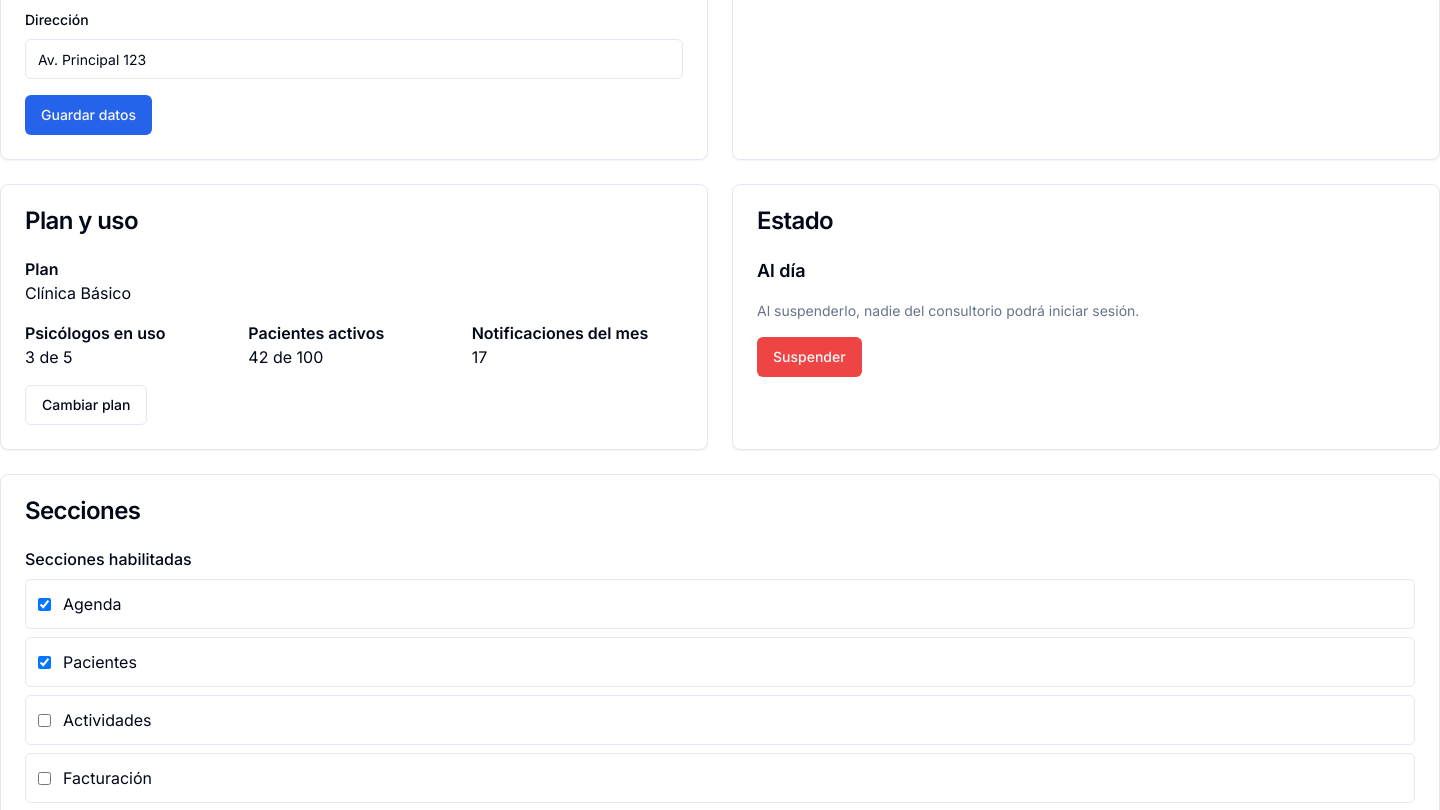
TenantDetail › shows the PLAN_BELOW_USAGE message and leaves the plan unchanged
(page scrolled)
Expected: the checkbox labelled "Agenda" is shown, [38,598,51,610]
Click the button "Cambiar plan" at (86, 405), box [25,385,148,425]
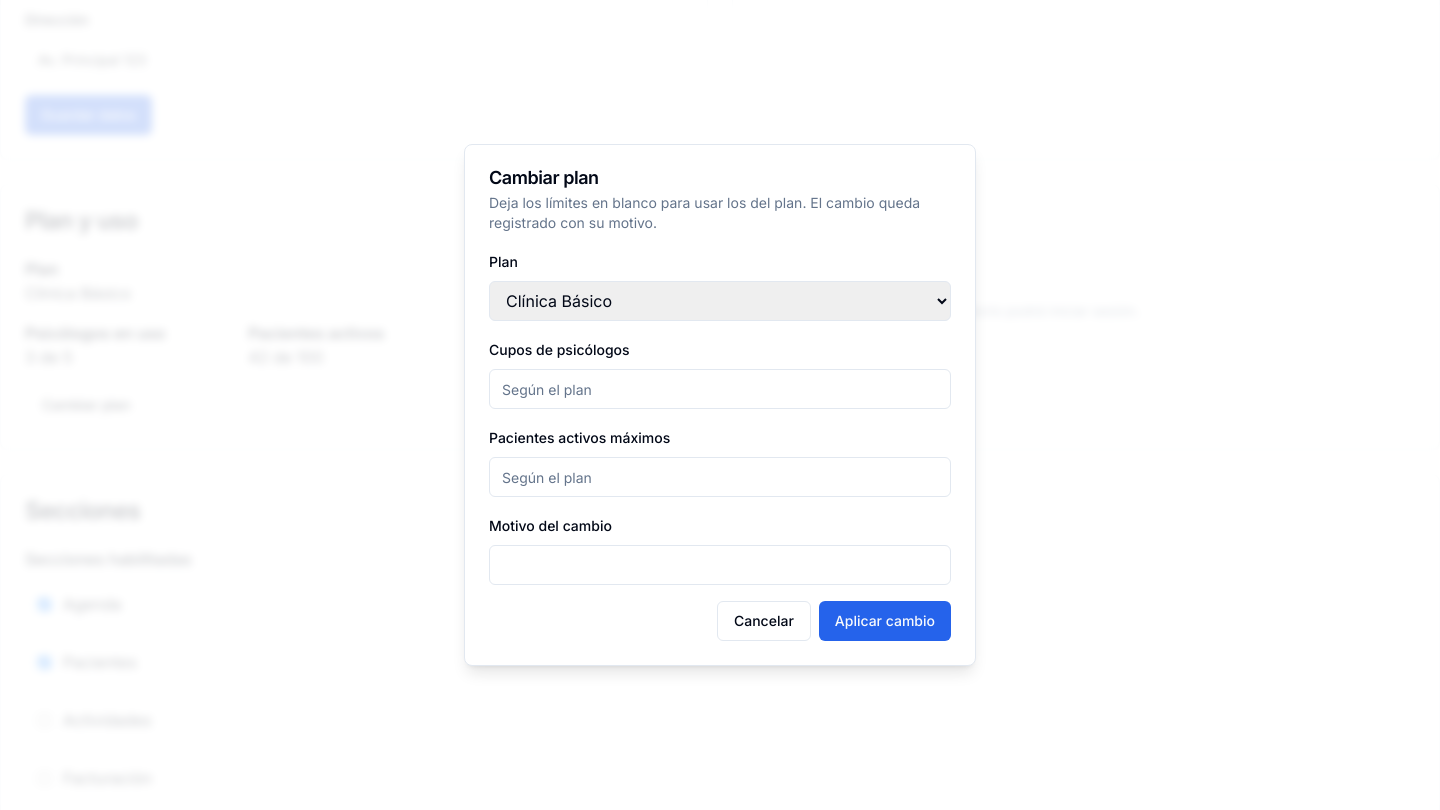
Select "Clínica Pro" in the dropdown labelled "Plan" at (720, 301), box [489,281,951,321]
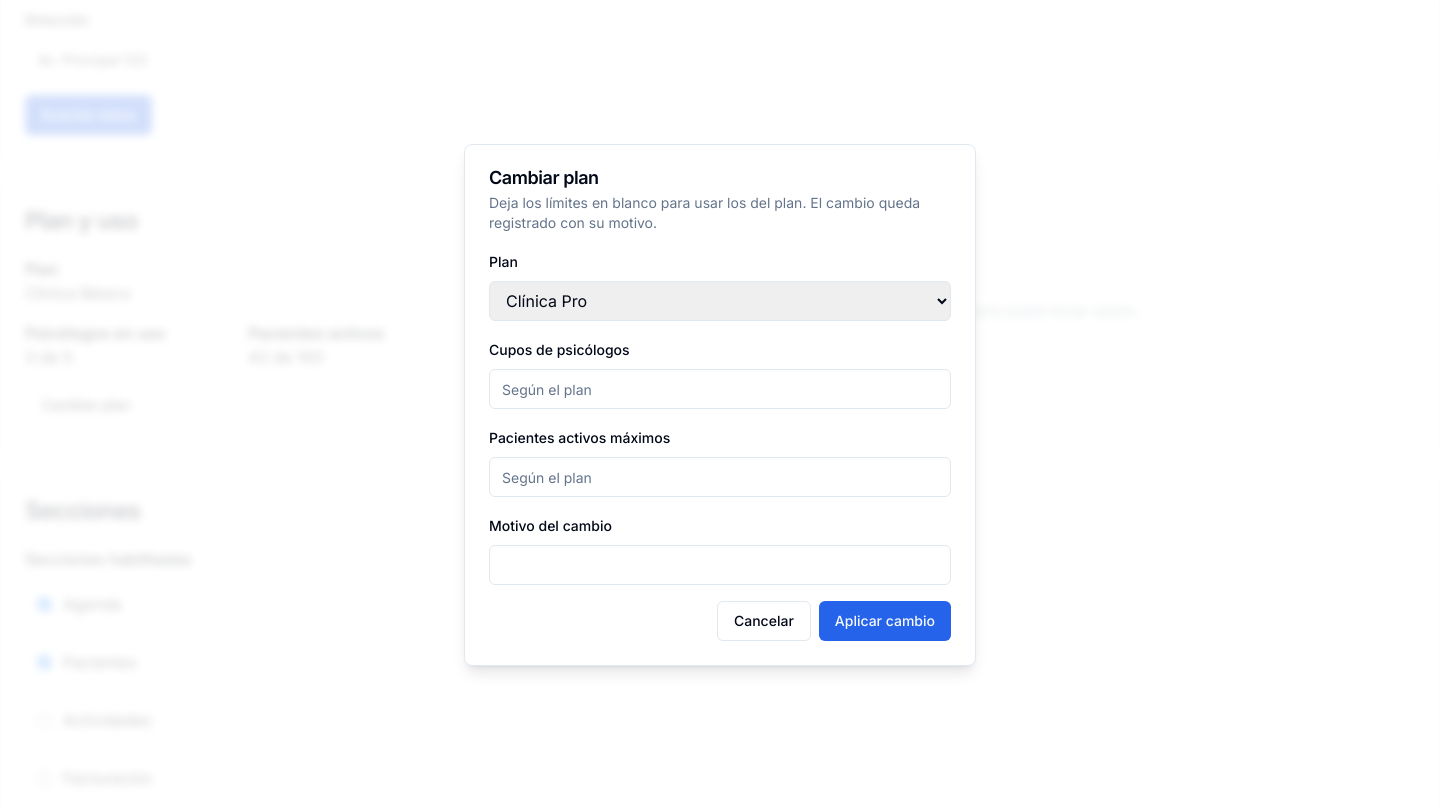
Type "2" into the number field labelled "Cupos de psicólogos" at (720, 389), box [489,369,951,409]
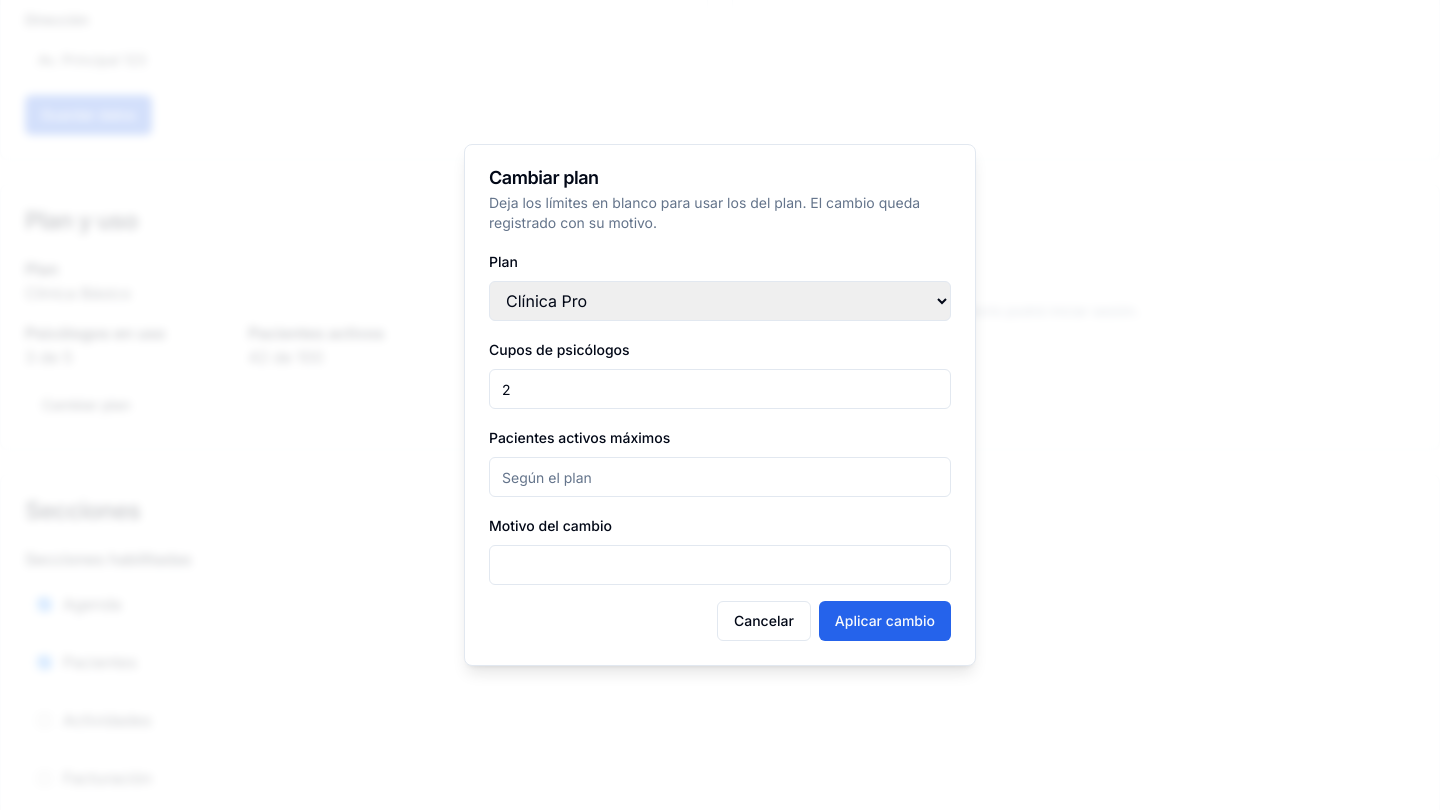
Type "Reducción" into the field labelled "Motivo del cambio" at (720, 565), box [489,545,951,585]
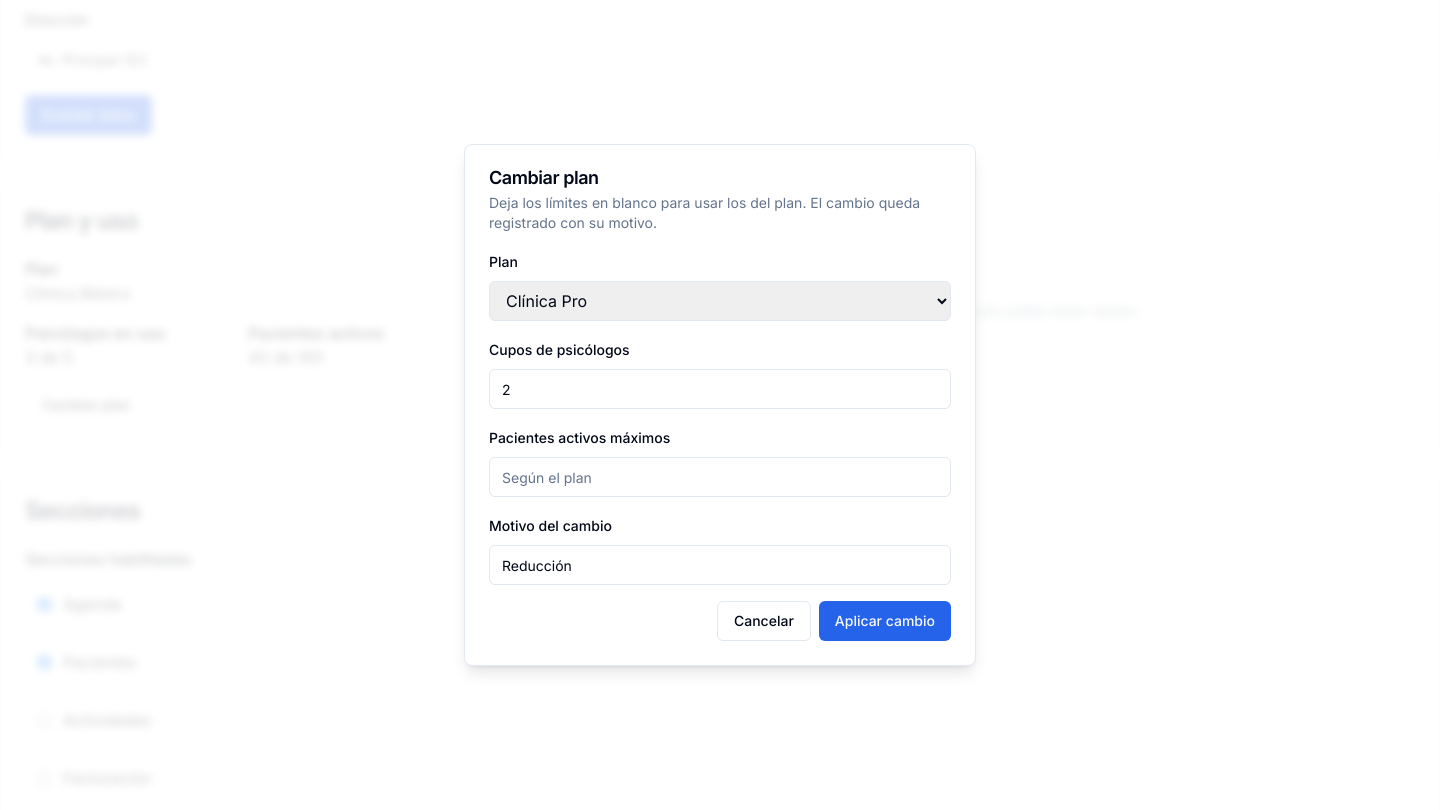
Click the button "Aplicar cambio" at (885, 621), box [819,601,951,641]
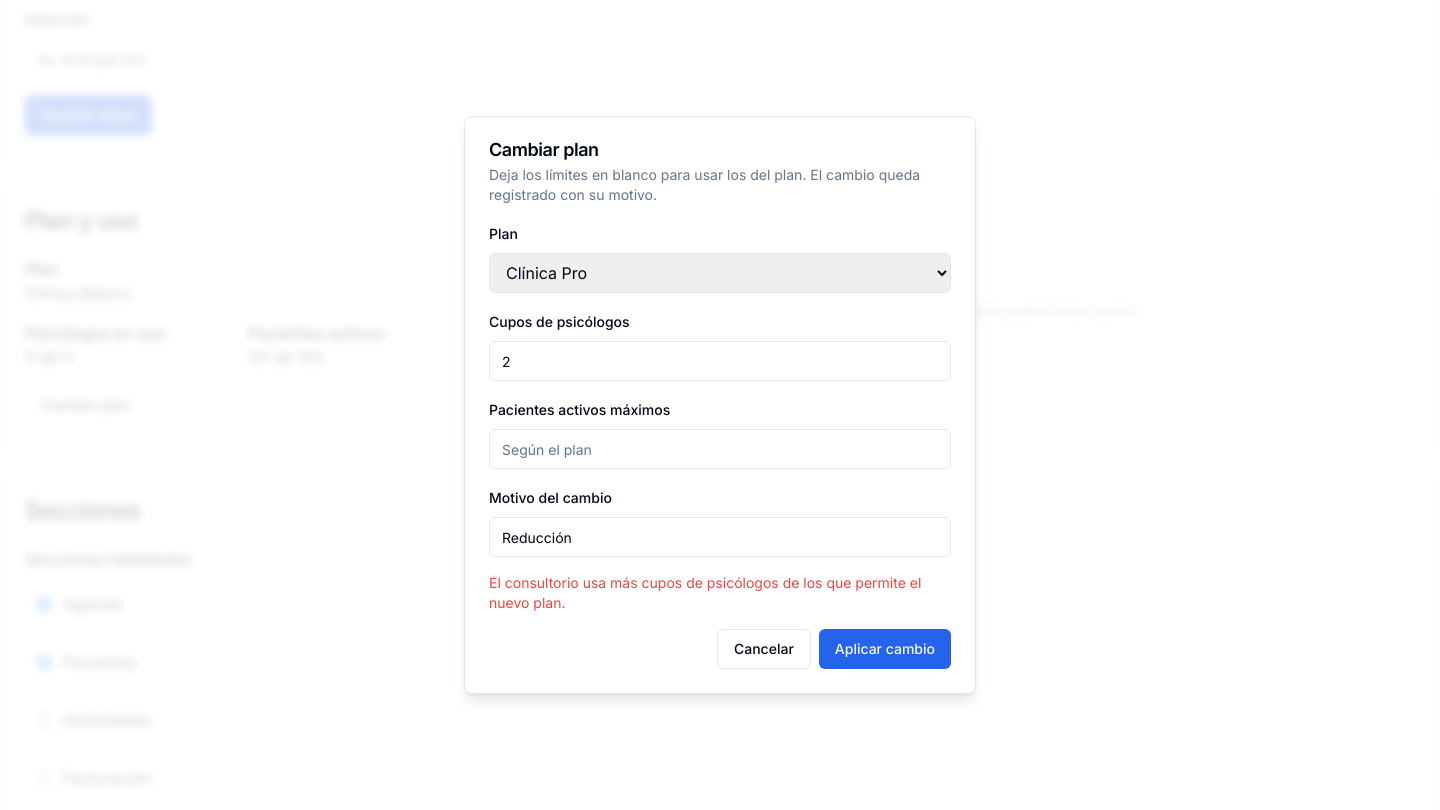
Expected: the heading "Cambiar plan" is shown, [489,139,599,160]
Expected: the message reads "El consultorio usa más cupos de psicólogos de los que permite el nuevo plan.", [489,574,921,611]
